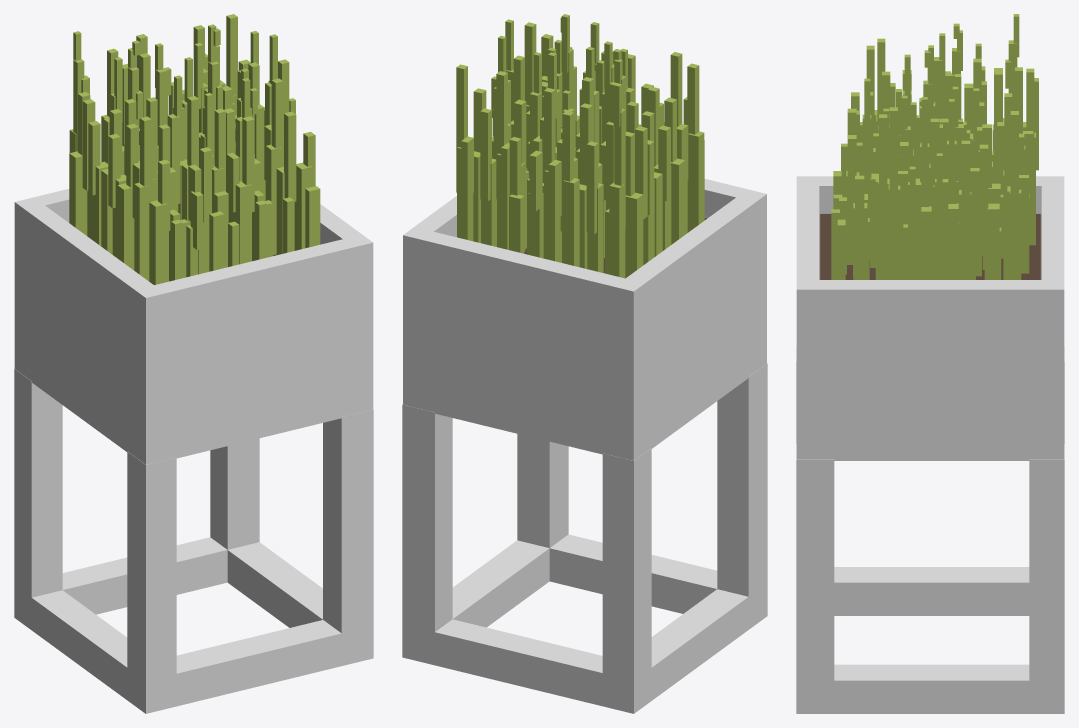
Rendered from plant04_04.gltf.
3 views of the same model, side by side, from view 1: azimuth 30°, elevation 25°; view 2: azimuth 150°, elevation 25°; view 3: azimuth 270°, elevation 25° (orthographic). The views are drawn at different scales.
Parts seen in each view (by area): view 1: pot02, pot, plant04_stage03:pCube36, pCube84, plant04_stage03:pCube48, plant04_stage03:pCube62, plant04_stage03:pCube79, plant04_stage03:pCube72, plant04_stage03:pCube101, plant04_stage03:pCube84, plant04_stage03:pCube81, plant04_stage03:pCube99 (+26 smaller); view 2: pot02, pot, pCube84, pCube154, plant04_stage03:pCube62, plant04_stage03:pCube50, plant04_stage03:pCube48, plant04_stage03:pCube69, plant04_stage03:pCube90, plant04_stage03:pCube89, plant04_stage03:pCube51, plant04_stage03:pCube92 (+29 smaller); view 3: pot02, pot, dirt, plant04_stage03:pCube143, plant04_stage03:pCube86, plant04_stage03:pCube73, plant04_stage03:pCube88, pCube163, pCube1, plant04_stage03:pCube17, plant04_stage03:pCube85, pCube134 (+34 smaller).
Boxes of the visible parts, left/top/right/bottom form: pot02: left=14, top=189, right=373, bottom=464; pot: left=14, top=369, right=373, bottom=713; plant04_stage03:pCube36: left=149, top=200, right=167, bottom=284; pCube84: left=134, top=182, right=150, bottom=281; plant04_stage03:pCube48: left=117, top=183, right=134, bottom=270; plant04_stage03:pCube62: left=69, top=151, right=87, bottom=235; plant04_stage03:pCube79: left=233, top=181, right=251, bottom=264; plant04_stage03:pCube72: left=284, top=111, right=296, bottom=201; plant04_stage03:pCube101: left=294, top=162, right=312, bottom=250; plant04_stage03:pCube84: left=265, top=144, right=281, bottom=254; plant04_stage03:pCube81: left=242, top=116, right=254, bottom=212; plant04_stage03:pCube99: left=305, top=186, right=320, bottom=248; pot02: left=403, top=179, right=766, bottom=460; pot: left=402, top=363, right=767, bottom=713; pCube84: left=688, top=131, right=704, bottom=232; pCube154: left=609, top=182, right=625, bottom=278; plant04_stage03:pCube62: left=625, top=192, right=643, bottom=278; plant04_stage03:pCube50: left=563, top=178, right=579, bottom=267; plant04_stage03:pCube48: left=671, top=158, right=685, bottom=244; plant04_stage03:pCube69: left=586, top=141, right=598, bottom=234; plant04_stage03:pCube90: left=480, top=108, right=491, bottom=201; plant04_stage03:pCube89: left=481, top=158, right=496, bottom=246; plant04_stage03:pCube51: left=587, top=183, right=603, bottom=272; plant04_stage03:pCube92: left=457, top=147, right=473, bottom=241; pot02: left=796, top=176, right=1064, bottom=460; pot: left=796, top=346, right=1064, bottom=713; dirt: left=819, top=213, right=1041, bottom=279; plant04_stage03:pCube143: left=889, top=107, right=897, bottom=236; plant04_stage03:pCube86: left=1010, top=111, right=1018, bottom=240; plant04_stage03:pCube73: left=879, top=114, right=887, bottom=231; plant04_stage03:pCube88: left=987, top=203, right=999, bottom=279; pCube163: left=917, top=206, right=931, bottom=279; pCube1: left=945, top=203, right=958, bottom=279; plant04_stage03:pCube17: left=961, top=140, right=970, bottom=232; plant04_stage03:pCube85: left=979, top=144, right=988, bottom=237; pCube134: left=1004, top=93, right=1012, bottom=222.
Bounding box in the file's own units: 0.0142 × 0.0362 × 0.0142.
2 materials, 1 textured.
